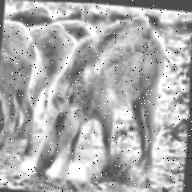boar: (20, 9, 192, 187)
